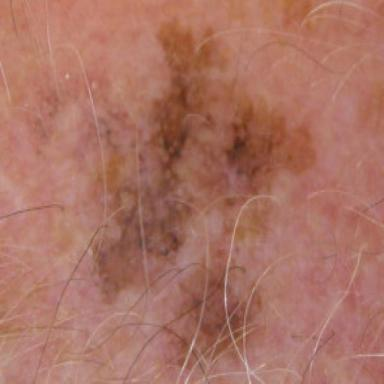Melanoma: (27, 19, 324, 383)
